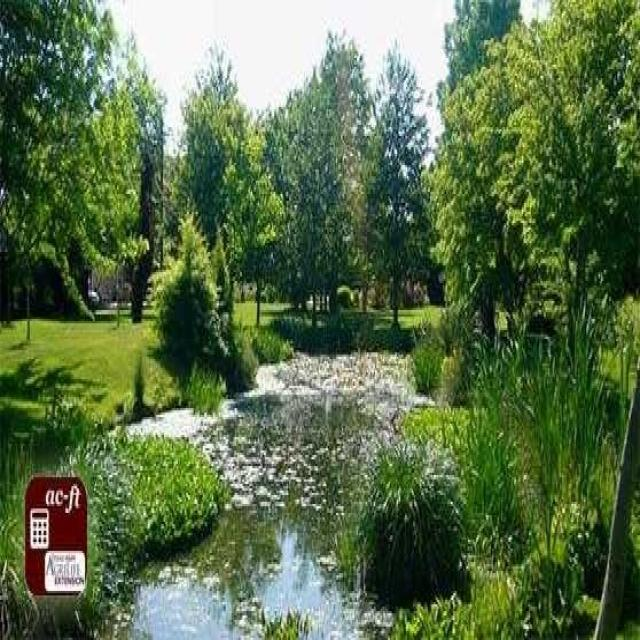Ponds: (104, 351, 545, 639)
